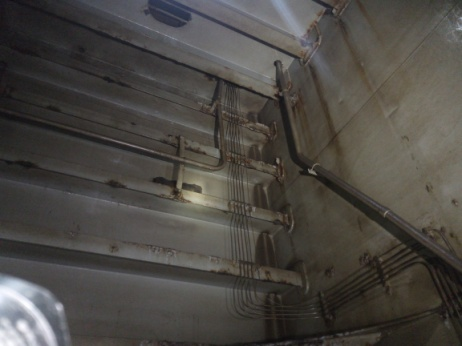corrosion: (304, 50, 351, 178), (330, 9, 370, 109), (207, 255, 235, 277), (99, 178, 129, 195), (11, 158, 50, 171), (103, 242, 125, 263), (146, 171, 173, 188), (179, 181, 208, 195)
